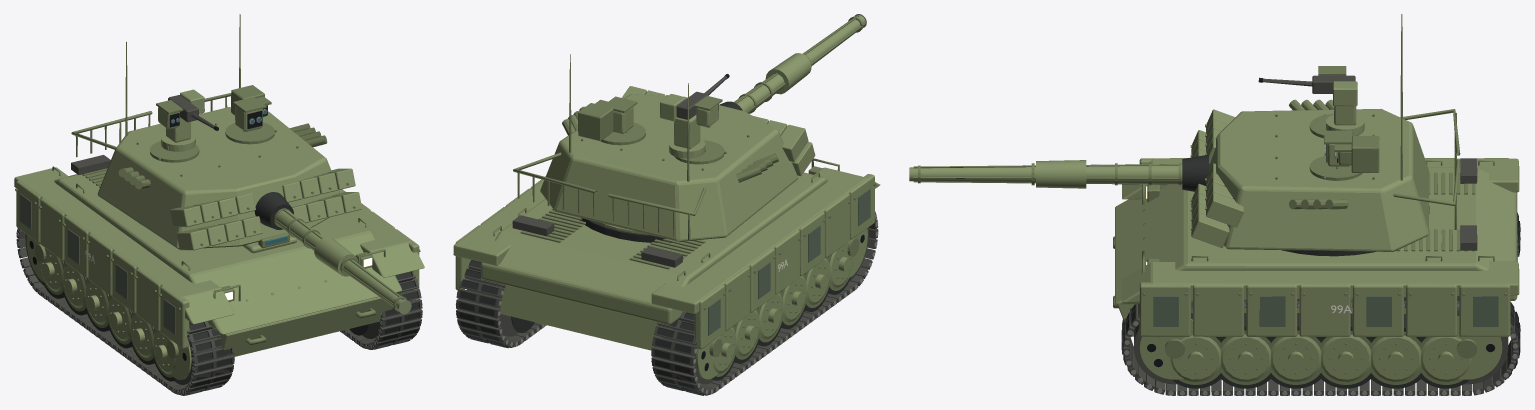
The model's file is china.glb.
The picture shows the model from 3 angles, left to right: view 1: azimuth 30°, elevation 25°; view 2: azimuth 150°, elevation 25°; view 3: azimuth 270°, elevation 25°; orthographic projection. The views are drawn at different scales.
Visible parts, largest first — view 1: body, turret; view 2: body, turret; view 3: body, turret.
Part boxes in pixels (x1,y1,x2,y2): body: (14, 155, 424, 395); turret: (71, 14, 411, 314); body: (453, 158, 880, 395); turret: (513, 14, 866, 242); body: (1113, 158, 1520, 395); turret: (909, 14, 1460, 256).
Size of the model in its own units: 3.82 by 3.98 by 7.57.
